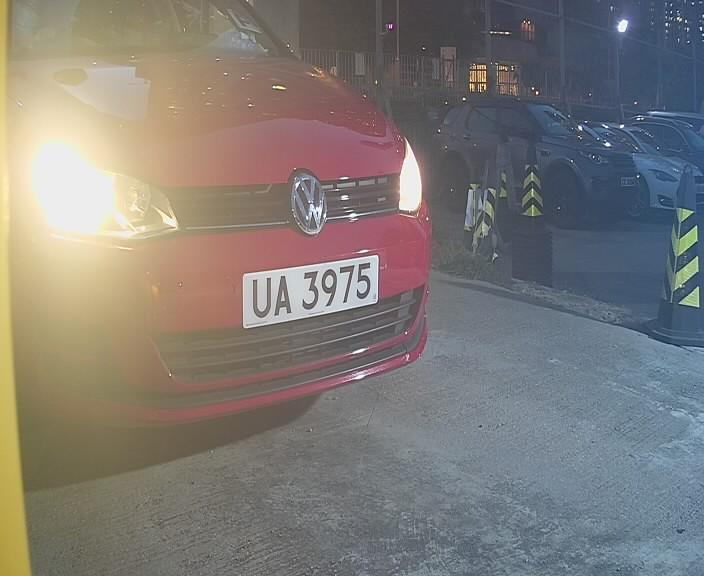privatecar: (35, 11, 431, 453)
